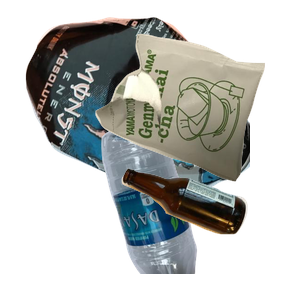glass: (119, 166, 300, 300)
metal: (23, 15, 263, 195)
plastic: (99, 120, 289, 300)
trash: (93, 31, 300, 205)
